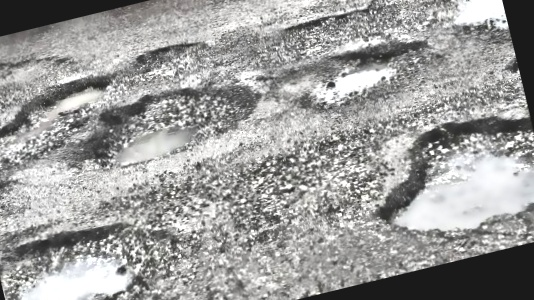pothole: (354, 99, 534, 253), (67, 66, 268, 184), (0, 197, 203, 300), (264, 28, 447, 126), (269, 0, 506, 70), (0, 69, 123, 188), (0, 43, 77, 103), (124, 34, 210, 80)
